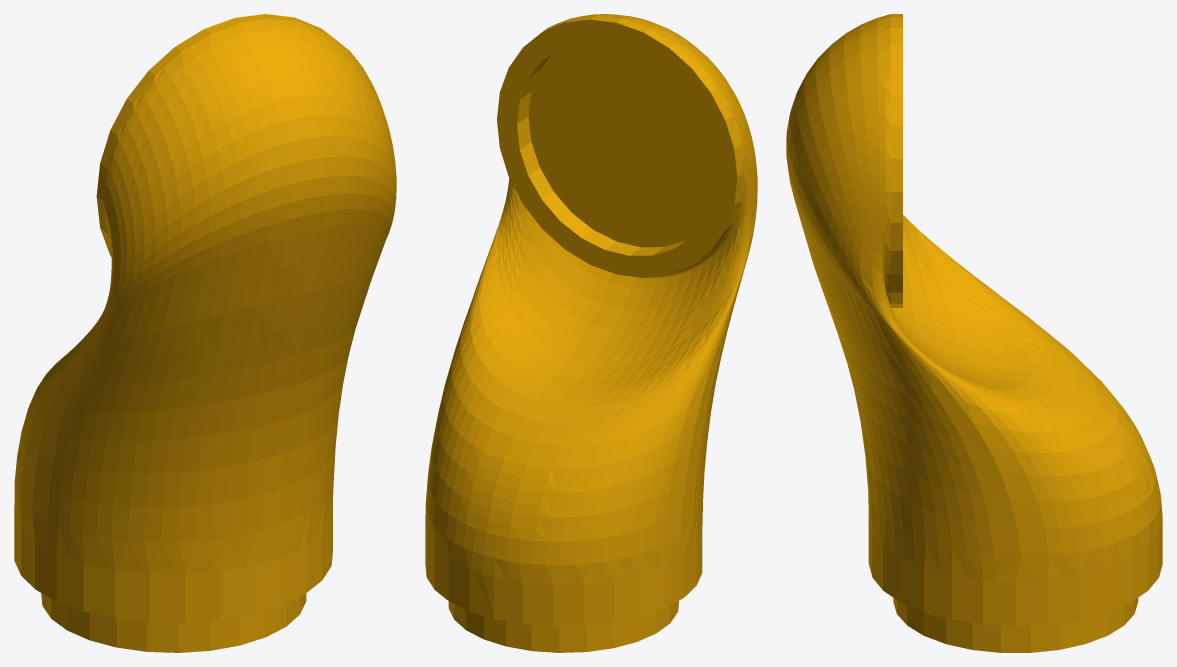
The picture shows the model from 3 angles, left to right: view 1: azimuth 30°, elevation 25°; view 2: azimuth 150°, elevation 25°; view 3: azimuth 270°, elevation 25°; orthographic projection. The views are drawn at different scales.
Visible parts, largest first — view 1: link_5; view 2: link_5; view 3: link_5.
Part boxes in pixels (x1,y1,x2,y2): link_5: (14,14,396,652); link_5: (425,14,757,652); link_5: (786,14,1162,652).
Size of the model in its own units: 0.12 by 0.1537 by 0.2585.
